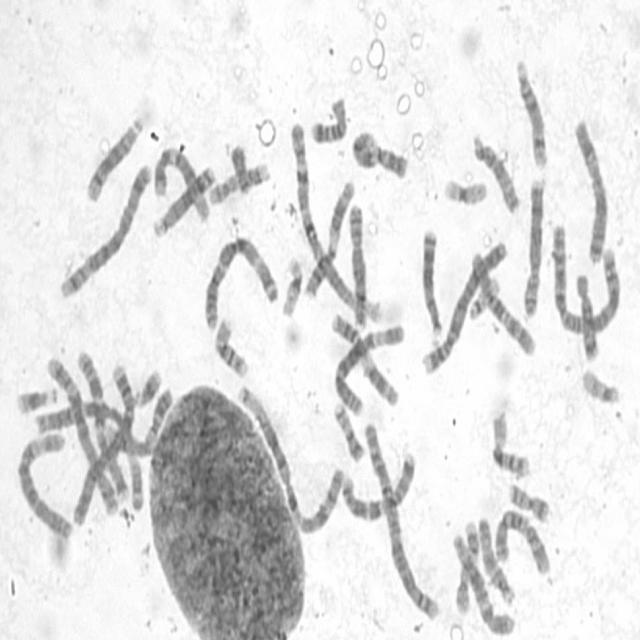A1: (286, 117, 382, 328), (233, 378, 346, 535)
A2: (361, 413, 439, 623), (549, 217, 623, 338)
A3: (36, 398, 144, 514), (200, 230, 281, 332)
B4: (419, 232, 510, 378), (69, 359, 135, 527)
B5: (57, 156, 154, 302), (43, 352, 113, 514)
C10: (466, 243, 538, 359), (492, 504, 552, 577)
C11: (328, 308, 402, 412), (303, 175, 356, 300)
C12: (449, 526, 517, 638), (150, 140, 212, 224)
C6: (330, 312, 404, 414), (14, 426, 75, 542)
C7: (73, 341, 129, 506), (338, 446, 418, 523)
C8: (520, 169, 548, 323), (346, 196, 369, 330)
C9: (108, 386, 174, 452), (348, 124, 410, 182)
D13: (152, 158, 218, 240), (418, 222, 445, 345)
D14: (81, 109, 147, 204), (512, 52, 550, 170)
D15: (468, 127, 522, 216), (475, 512, 518, 607)
E16: (487, 406, 532, 480), (212, 311, 250, 380)
E17: (205, 156, 271, 208), (451, 516, 481, 618)
E18: (572, 266, 601, 362), (308, 90, 349, 145)
F19: (440, 170, 489, 208), (278, 250, 304, 318)
F20: (331, 396, 366, 464), (505, 477, 551, 524)
G21: (12, 379, 58, 416), (130, 361, 163, 409)
G22: (579, 362, 622, 406), (465, 272, 502, 322)
X: (566, 114, 610, 266)
Y: (228, 141, 253, 196)
